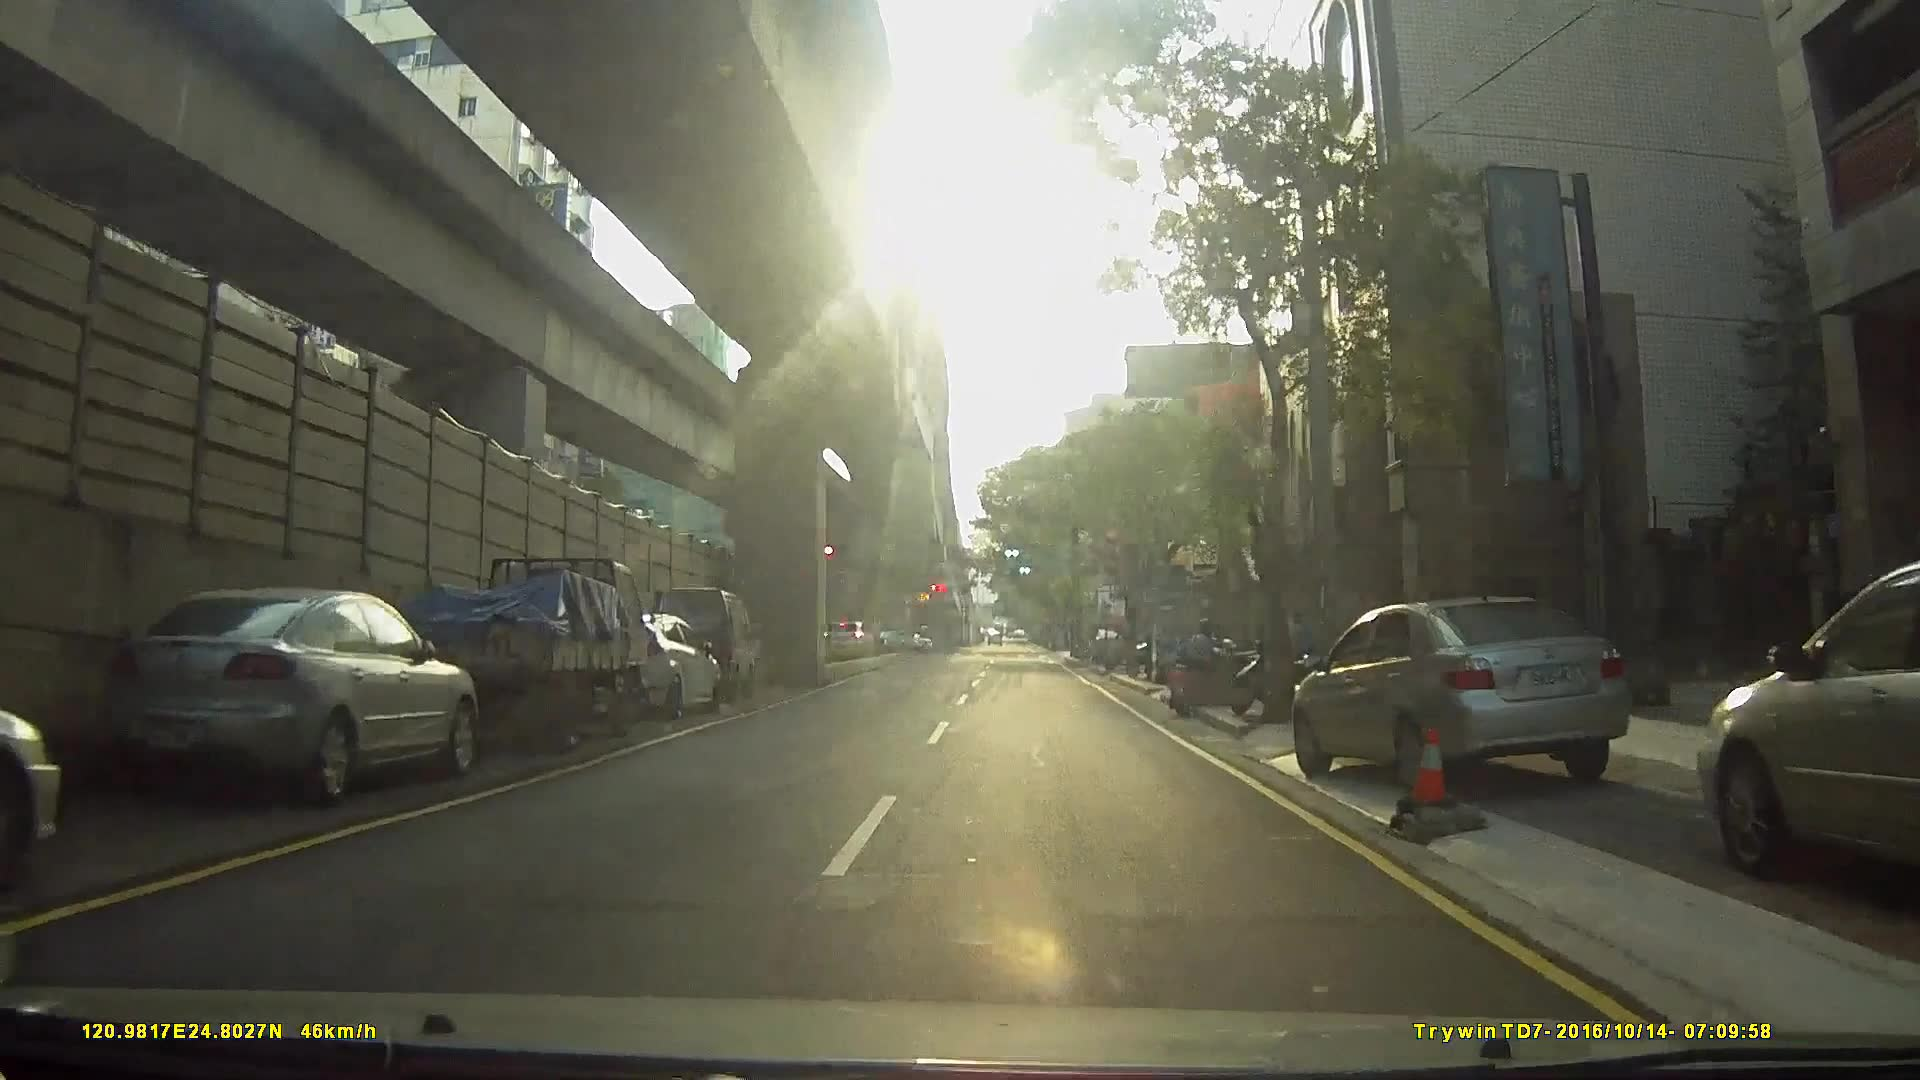rider: (1164, 616, 1251, 719)
vehicle: (119, 578, 484, 809), (1686, 557, 1920, 908), (1269, 586, 1657, 790), (385, 555, 668, 752), (571, 611, 720, 728), (644, 585, 760, 703), (1, 691, 70, 886), (820, 618, 876, 654)
